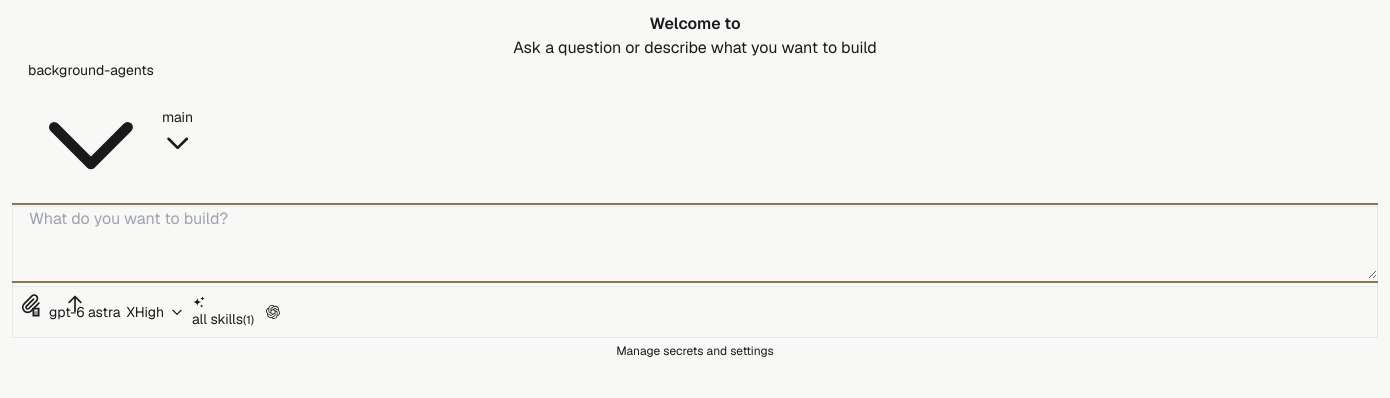
Scenario: Home › does not warm a pending session from a malformed create response
Type "Investigate logs" into the text box with placeholder "What do you want to build?" at [695, 243], box [13,207,1377,279]
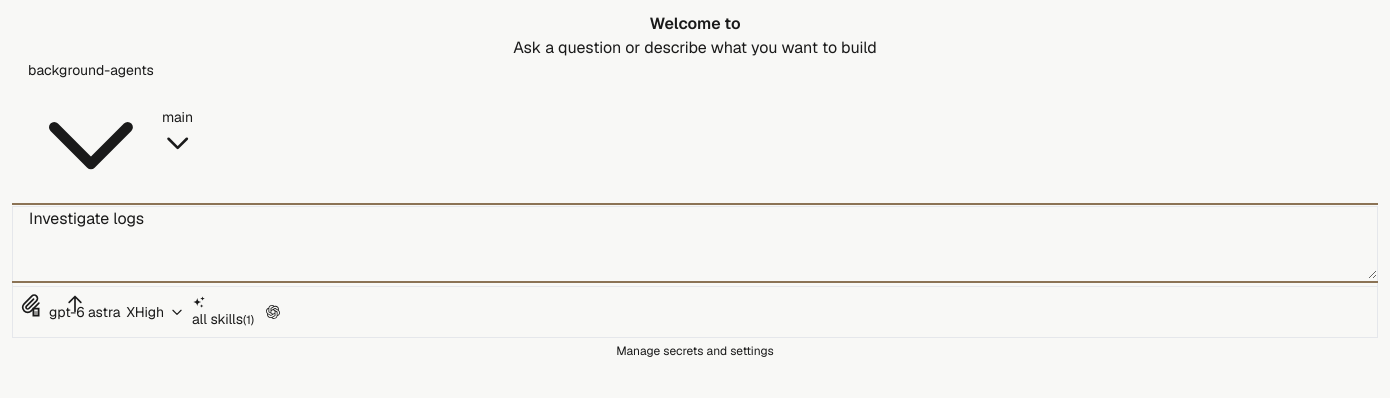
Click the button named "send" at [75, 304], box [57,286,93,322]
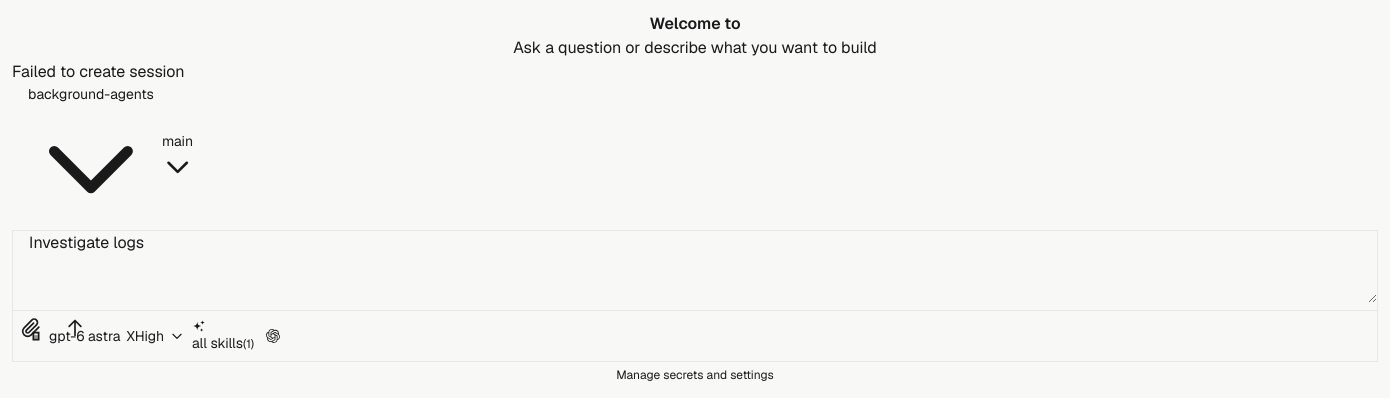
Now the text "Failed to create session" is shown, box [12,61,185,82]
